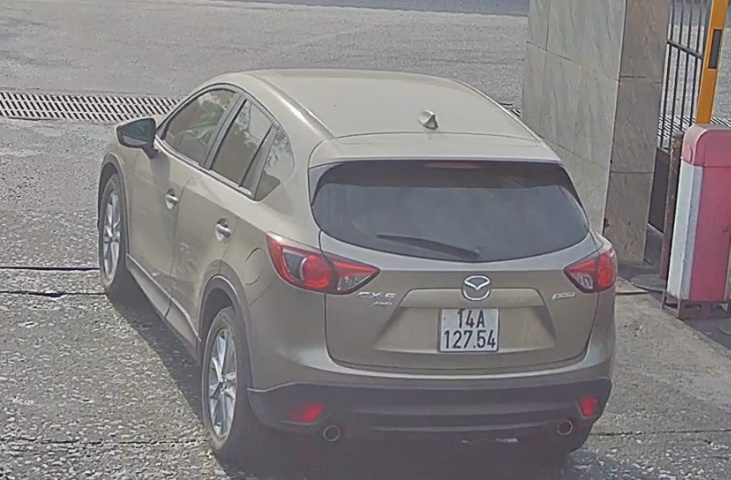vehicle plate: (437, 303, 507, 354)
